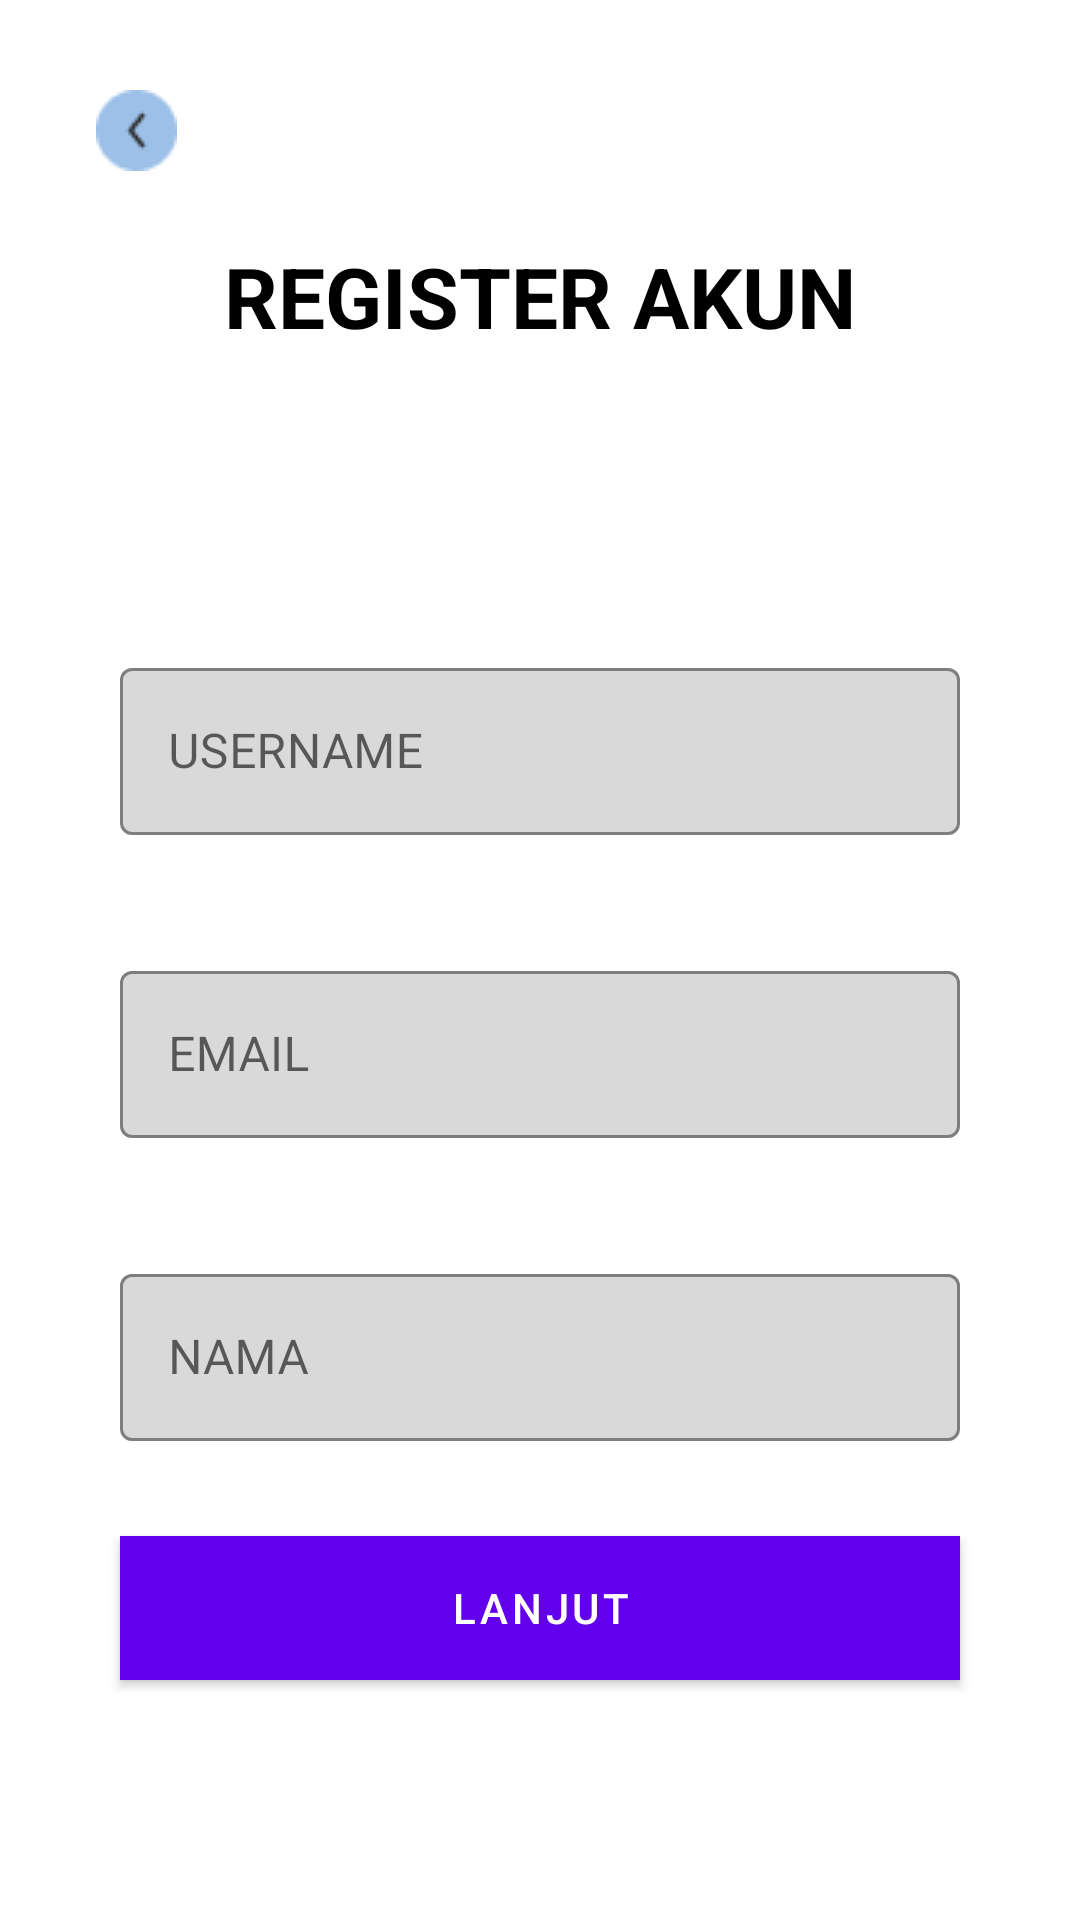

Where to tap for icons on this 1080 x 1920 app screen, as (x=x, y=y):
kembali: (x=136, y=130)
